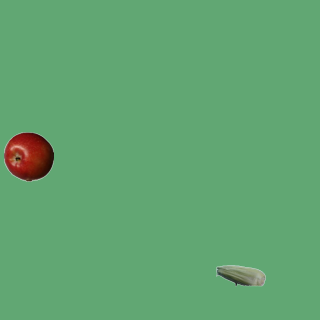Apple Braeburn: (3, 131, 53, 181)
Corn Husk: (215, 250, 265, 300)
